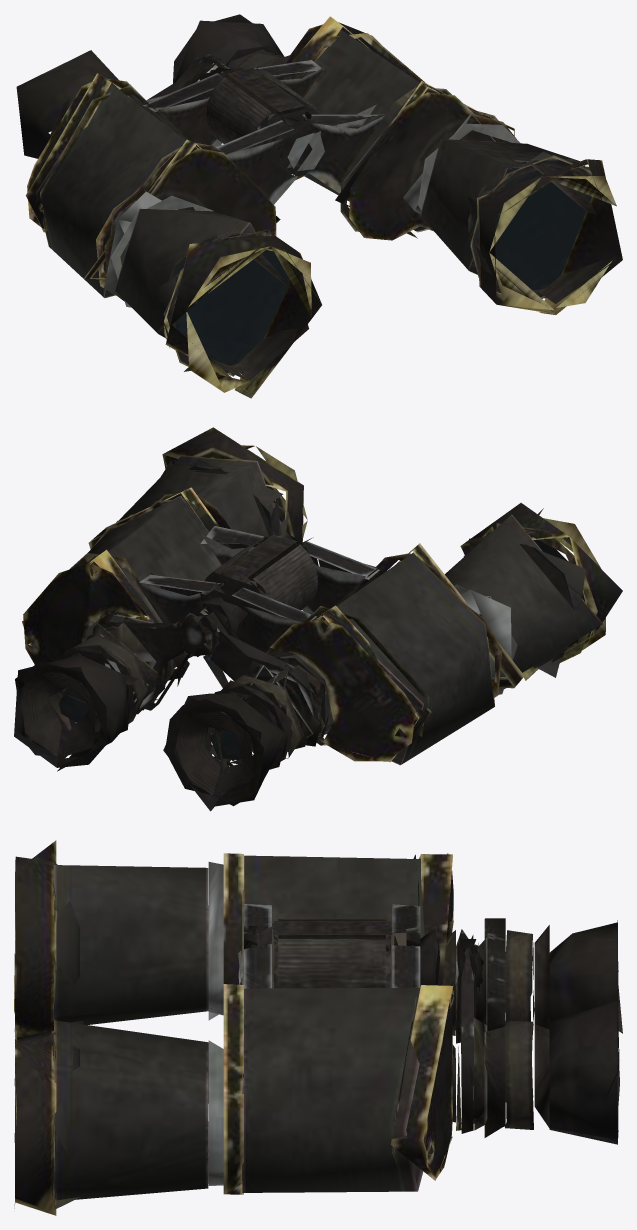
File: isl_binos.glb
The picture shows the model from 3 angles, top to bottom: view 1: azimuth 30°, elevation 25°; view 2: azimuth 150°, elevation 25°; view 3: azimuth 270°, elevation 25°; orthographic projection. The views are drawn at different scales.
Parts seen in each view (by area): view 1: vintage_binocular_left_lens; view 2: vintage_binocular_left_lens; view 3: vintage_binocular_left_lens.
Part boxes in pixels (x1=…): vintage_binocular_left_lens: x1=16, y1=14, x2=622, y2=398; vintage_binocular_left_lens: x1=14, y1=427, x2=622, y2=811; vintage_binocular_left_lens: x1=14, y1=840, x2=622, y2=1215.
Size of the model in its own units: 0.1983 by 0.0771 by 0.1993.
Materials: 1 (1 with a texture image).
